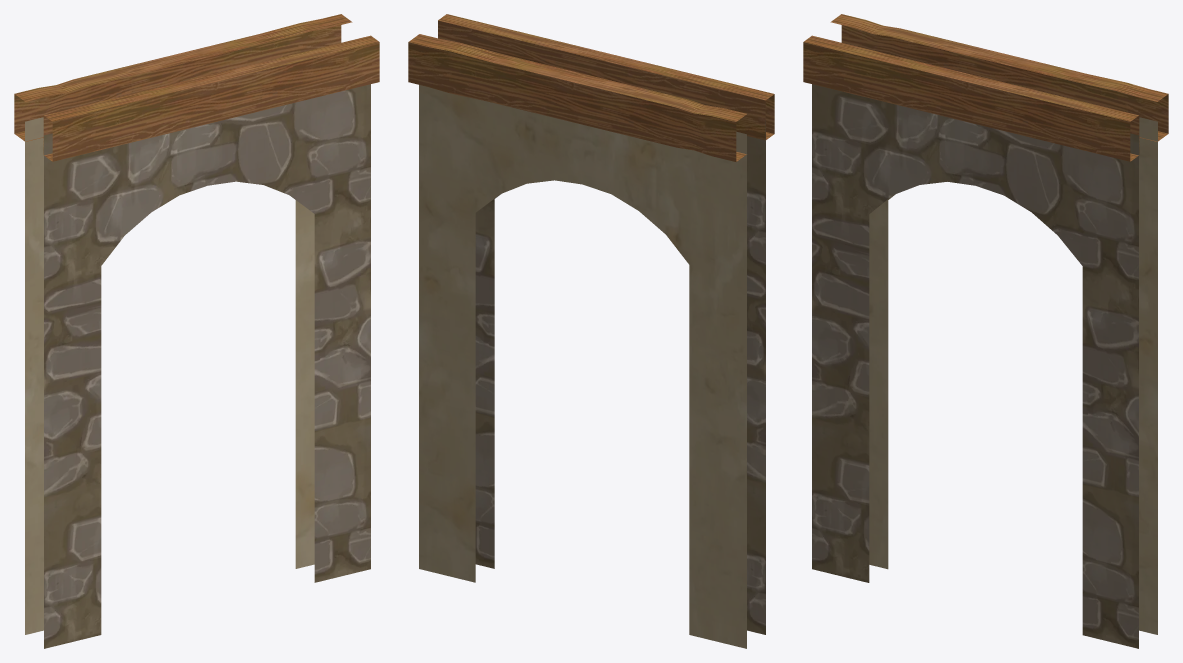
The model's file is Wall_UnevenBrick_Door_Round.glb.
The picture shows the model from 3 angles, left to right: view 1: azimuth 30°, elevation 25°; view 2: azimuth 150°, elevation 25°; view 3: azimuth 330°, elevation 25°; orthographic projection.
Visible parts, largest first — view 1: Wall_UnevenBrick_Door_Round; view 2: Wall_UnevenBrick_Door_Round; view 3: Wall_UnevenBrick_Door_Round.
Boxes of the visible parts, box(x1,y1,x2,y2) form: Wall_UnevenBrick_Door_Round: box(14, 14, 379, 648); Wall_UnevenBrick_Door_Round: box(408, 14, 774, 648); Wall_UnevenBrick_Door_Round: box(803, 14, 1168, 648).
Size of the model in its own units: 2 by 3.12 by 0.4064.
3 materials, 3 textured.
